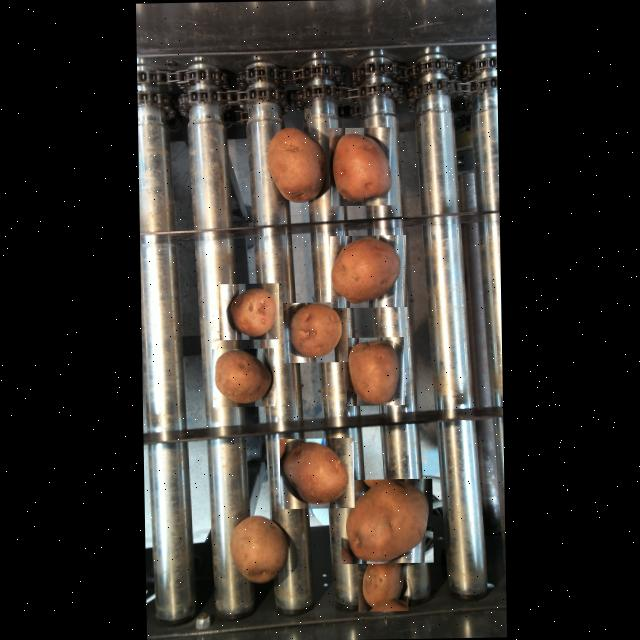Defected potato: (356, 550, 407, 612)
Potato: (339, 478, 432, 564), (263, 120, 328, 209), (328, 235, 406, 308), (225, 510, 293, 590), (328, 127, 395, 206), (278, 438, 353, 508), (344, 336, 404, 406), (282, 302, 346, 362), (210, 348, 274, 407), (218, 283, 278, 340)
